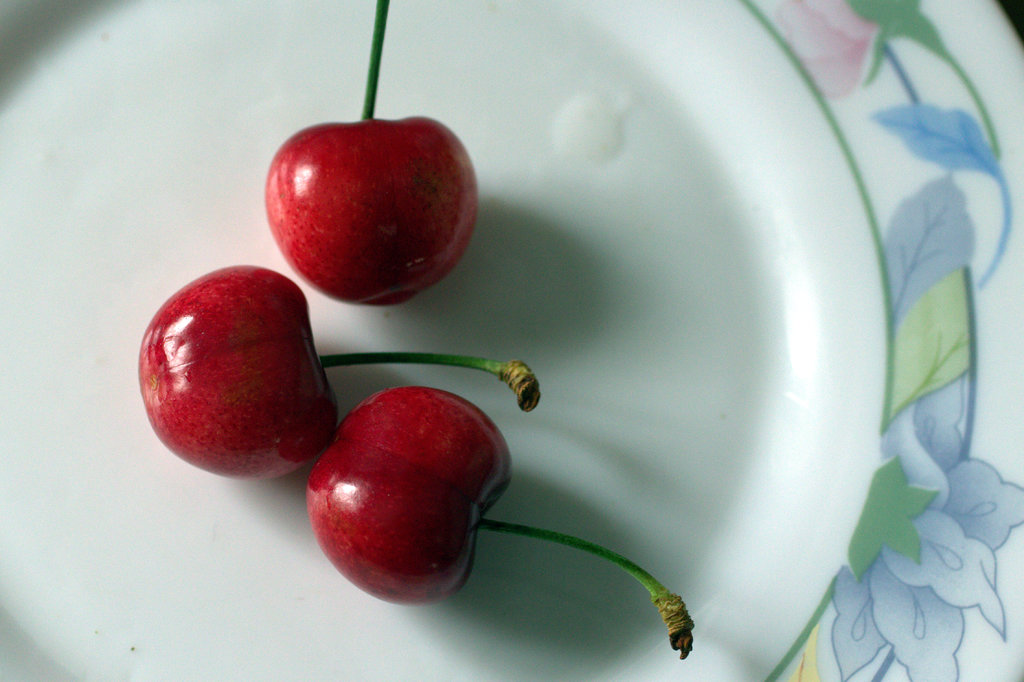Apple: (124, 261, 339, 493)
